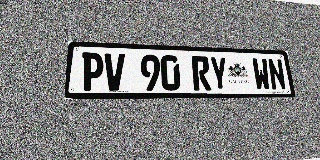0: (160, 55, 180, 91)
9: (141, 54, 161, 91)
N: (267, 59, 287, 90)
P: (81, 52, 104, 91)
R: (191, 56, 211, 91)
V: (104, 53, 125, 91)
W: (252, 58, 271, 90)
Y: (209, 57, 229, 91)
